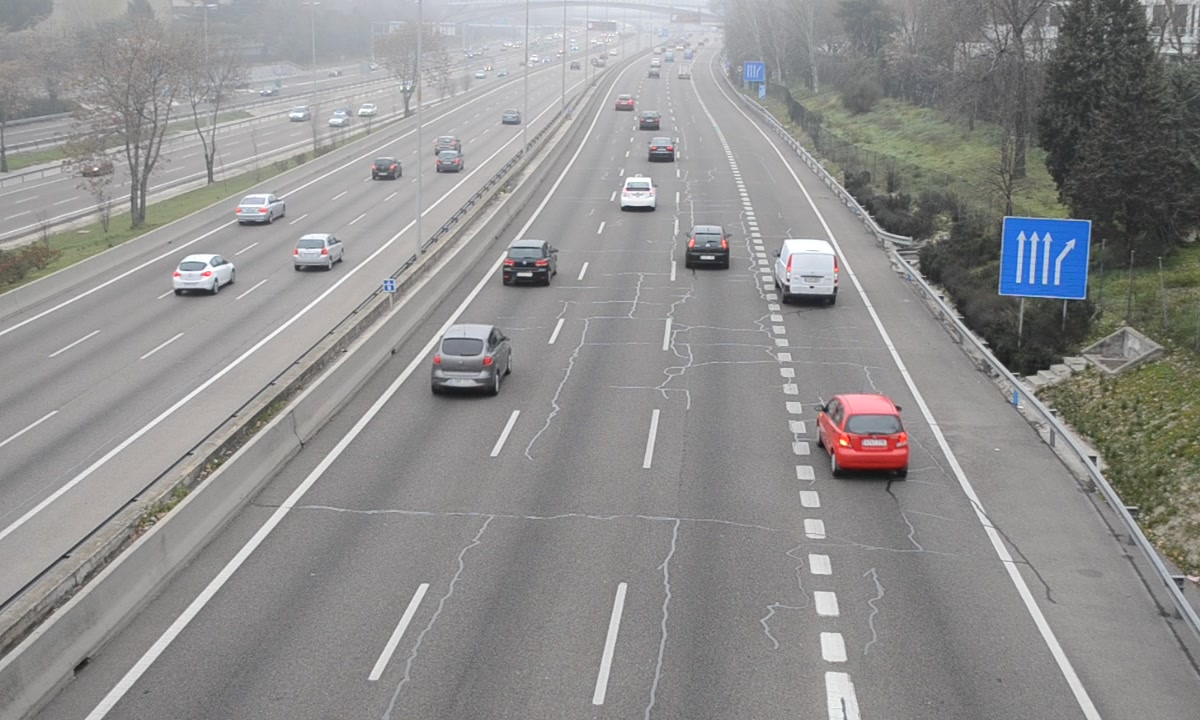car: (820, 394, 909, 471), (432, 324, 510, 393), (499, 240, 557, 286), (687, 224, 728, 270), (619, 176, 656, 209), (646, 136, 676, 162)
van: (779, 238, 836, 302)
